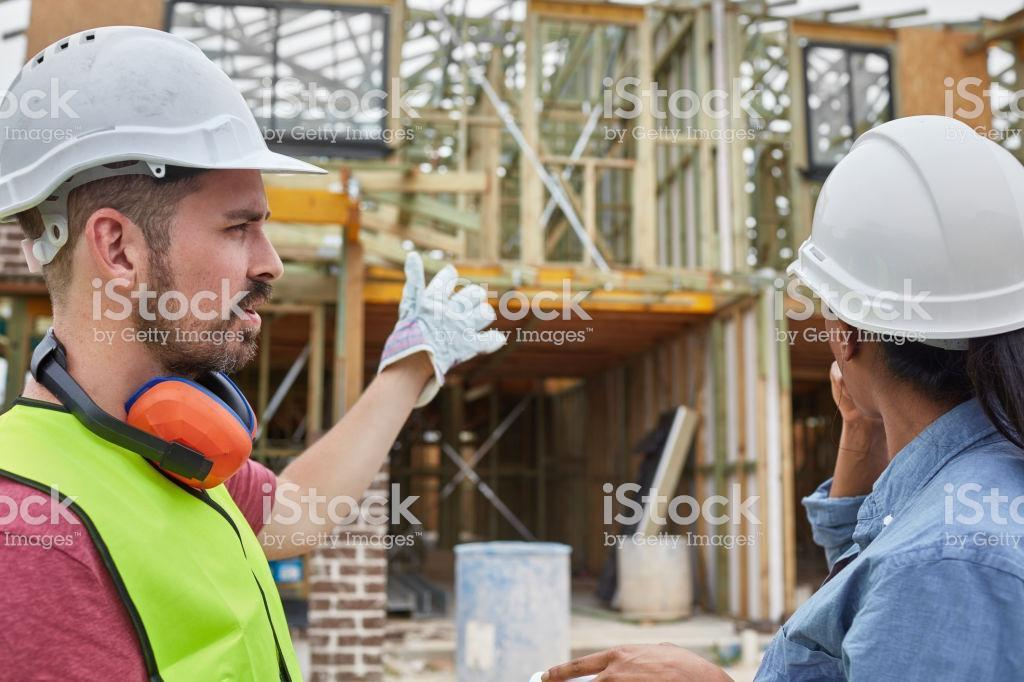vest: (0, 392, 308, 679)
